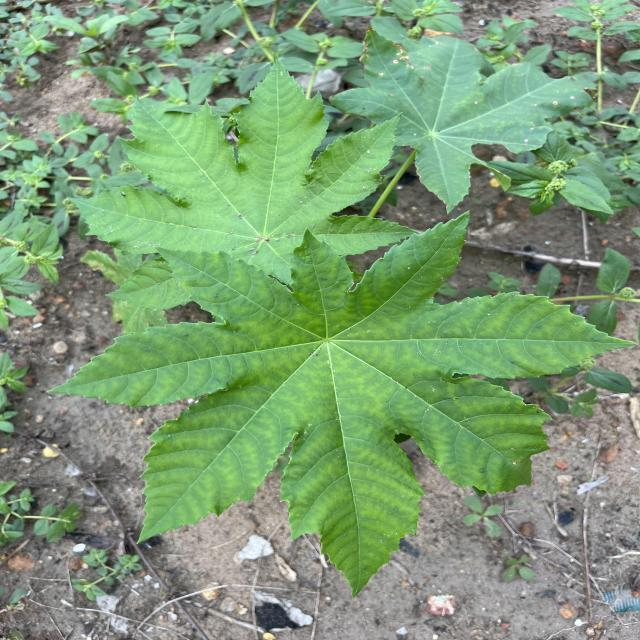Ricinus communis linn: (43, 206, 640, 600), (61, 47, 422, 316)
